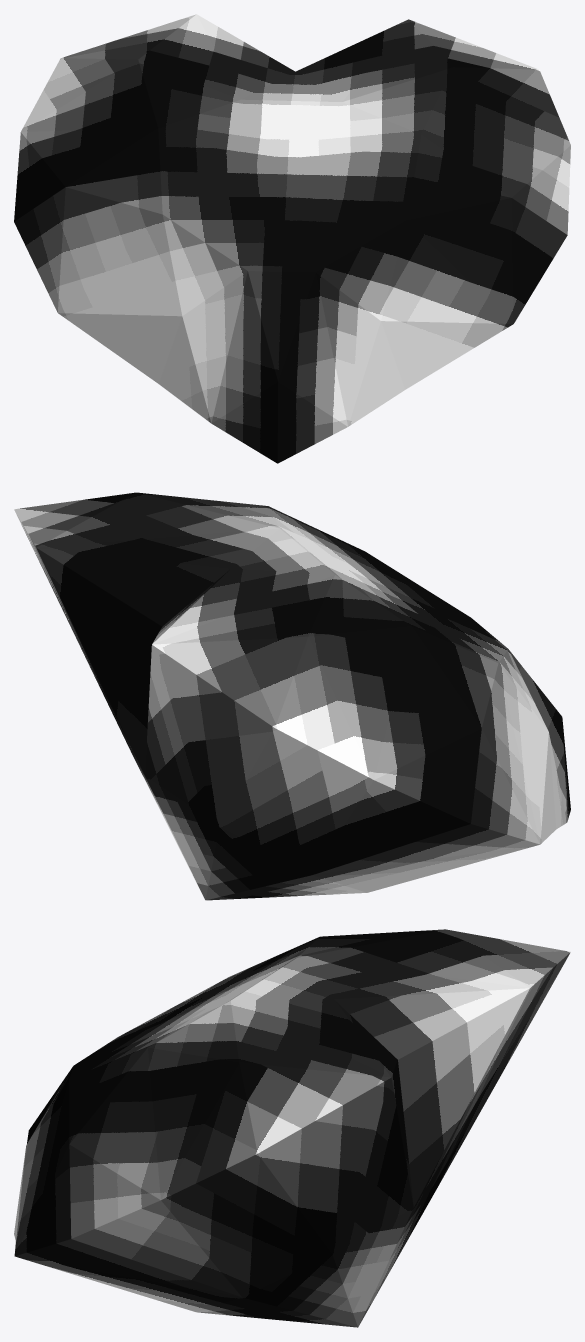
Rendered from diamond_red.dae.
3 views of the same model, one above another, from view 1: azimuth 30°, elevation 25°; view 2: azimuth 150°, elevation 25°; view 3: azimuth 270°, elevation 25° (orthographic). The views are drawn at different scales.
Visible parts, largest first — view 1: m0, m3; view 2: m0, m3; view 3: m0, m3.
Part boxes in pixels (x1,y1,x2,y2): m0: [14, 14, 570, 463]; m3: [15, 15, 570, 462]; m0: [14, 492, 570, 900]; m3: [20, 493, 570, 899]; m0: [14, 929, 570, 1327]; m3: [15, 930, 569, 1326].
Bounding box in the file's own units: 38.19 × 21.9 × 33.72.
Materials: 4 (4 with a texture image).
